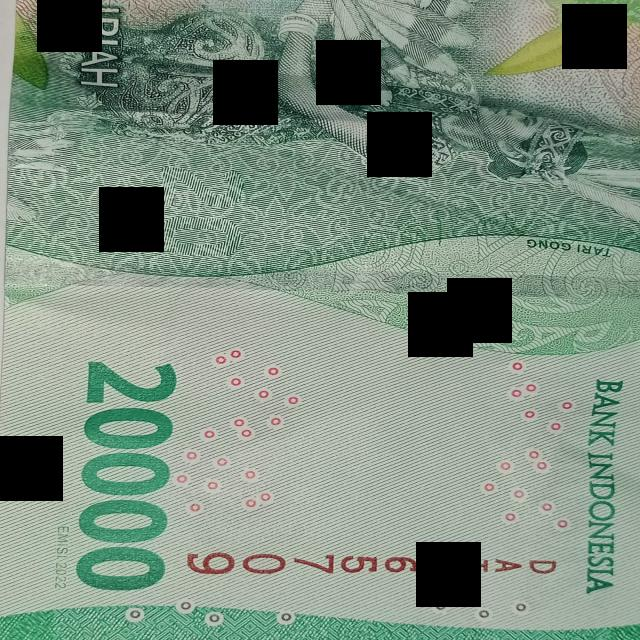dua puluh ribu rupiah: (3, 0, 638, 640)
